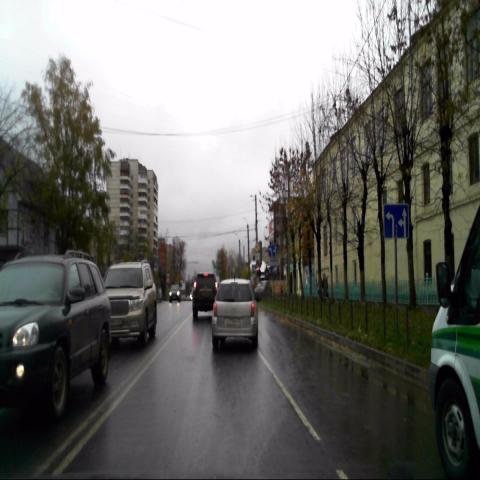5_15_2_2: (383, 203, 409, 239), (268, 246, 278, 257)
